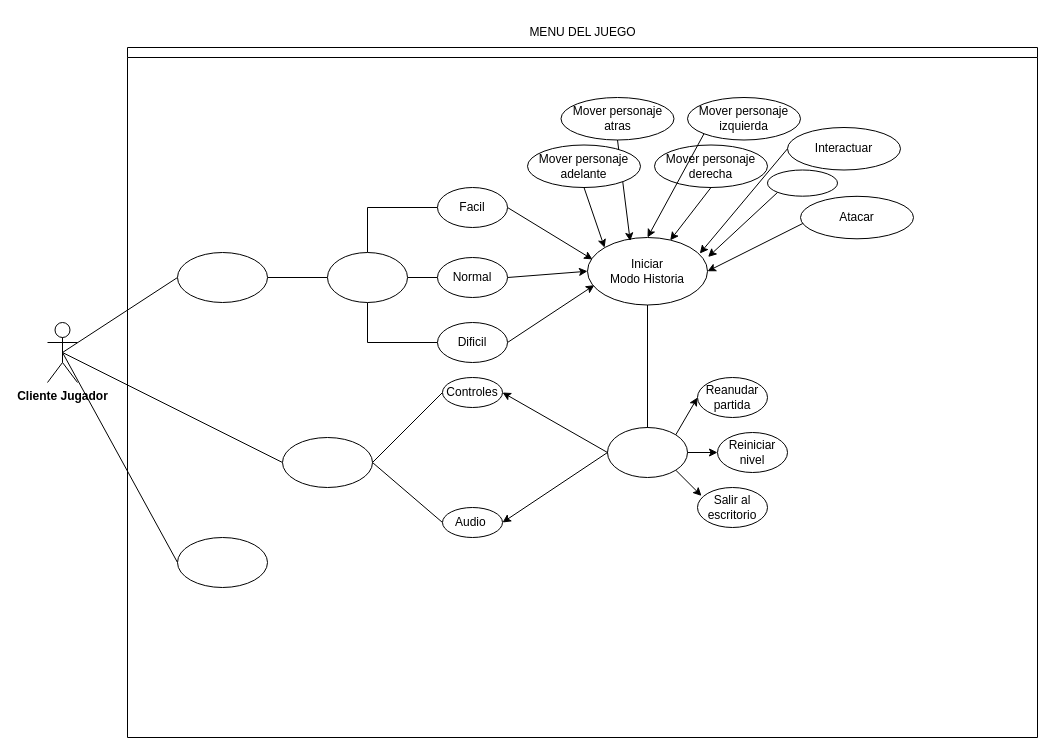
Some shapes in this 1055 by 755 pixel diagram are drawn without their labels. The box of each missing label's shape, as (x1, y1, x2, y2) in pixels:
Ajustes: (282, 436, 372, 488)
Iniciar Partida: (176, 252, 268, 302)
Pausar juego: (606, 426, 688, 478)
Salir del juego: (176, 536, 268, 588)
Saltar: (766, 169, 838, 196)
Tutorial: (326, 252, 408, 302)
